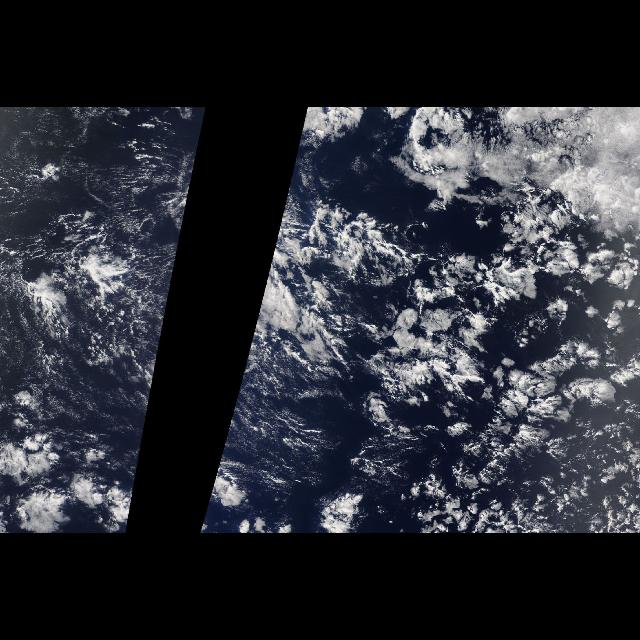Flower: (355, 206, 639, 534)
Sugar: (16, 112, 206, 482), (213, 349, 337, 481)
